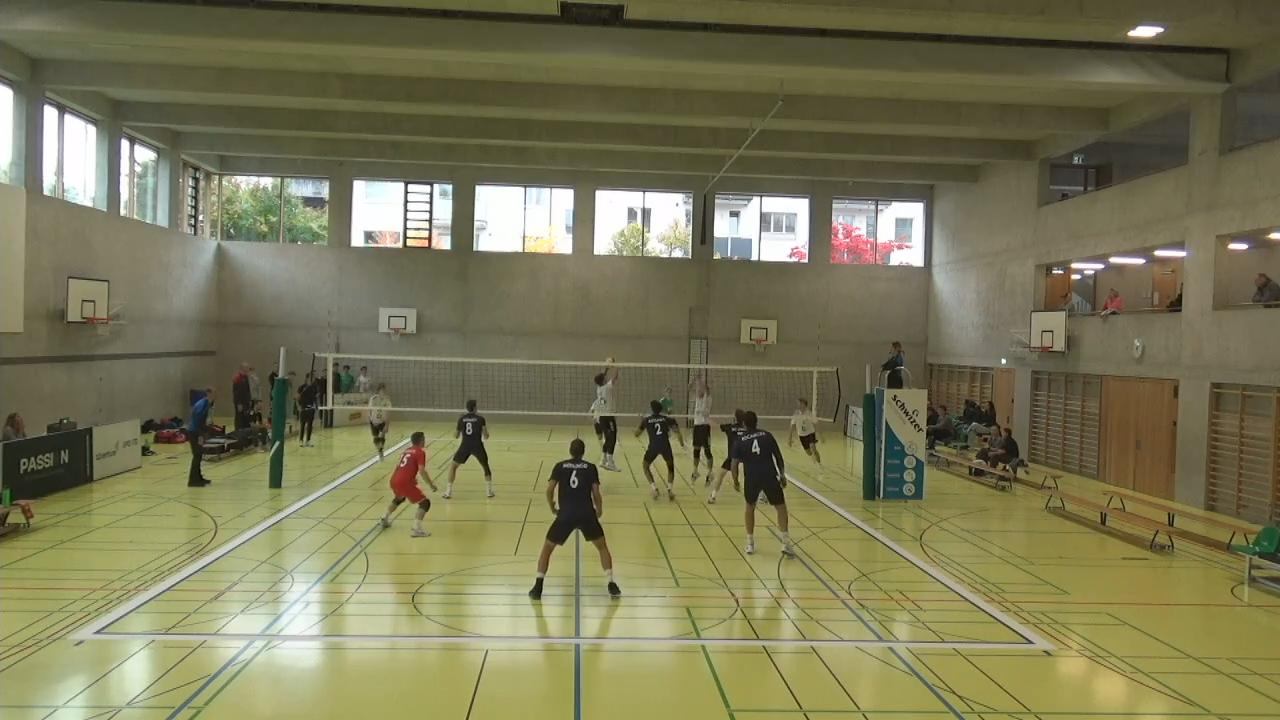Player: (528, 437, 621, 599), (737, 410, 792, 557), (380, 428, 435, 536), (441, 398, 496, 499), (708, 406, 752, 505), (639, 399, 678, 501), (686, 375, 716, 482), (357, 382, 394, 460), (789, 392, 824, 473), (652, 387, 684, 453), (589, 390, 609, 453)
Set: (589, 360, 620, 477)
ball: (601, 354, 615, 369)
